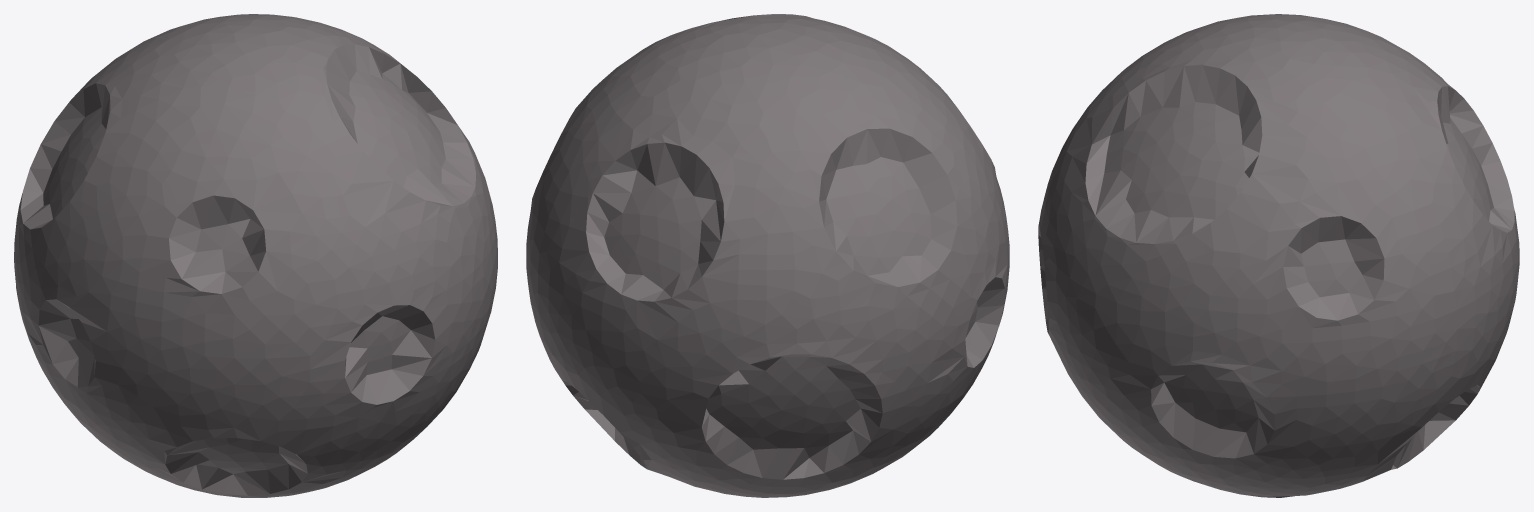
The model's file is moon.gltf.
3 renders of one model, left to right at view 1: azimuth 30°, elevation 25°; view 2: azimuth 150°, elevation 25°; view 3: azimuth 270°, elevation 25°, orthographic.
Parts seen in each view (by area): view 1: Moon; view 2: Moon; view 3: Moon.
Boxes of the visible parts, x1,y1,x2,y2 form: Moon: (14,14,497,497); Moon: (526,14,1009,497); Moon: (1038,14,1519,497).
Size of the model in its own units: 2.02 by 2.02 by 2.01.
1 material, 1 textured.
